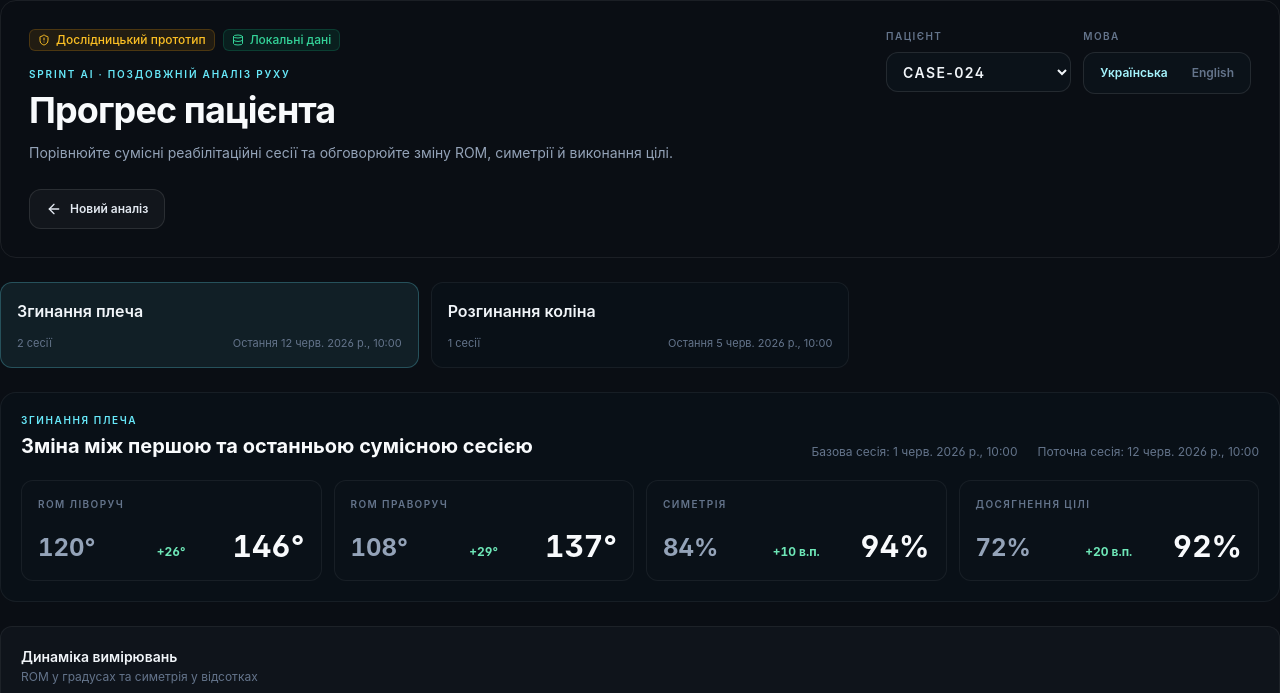
Test: RehabProgressPage › switches protocol, athlete, and locale without mixing sessions
Expected: the text "Базова сесія:" is shown, left=812, top=444, right=1018, bottom=460
Click the button "Розгинання коліна".
click(522, 311)  # box left=431, top=282, right=849, bottom=368
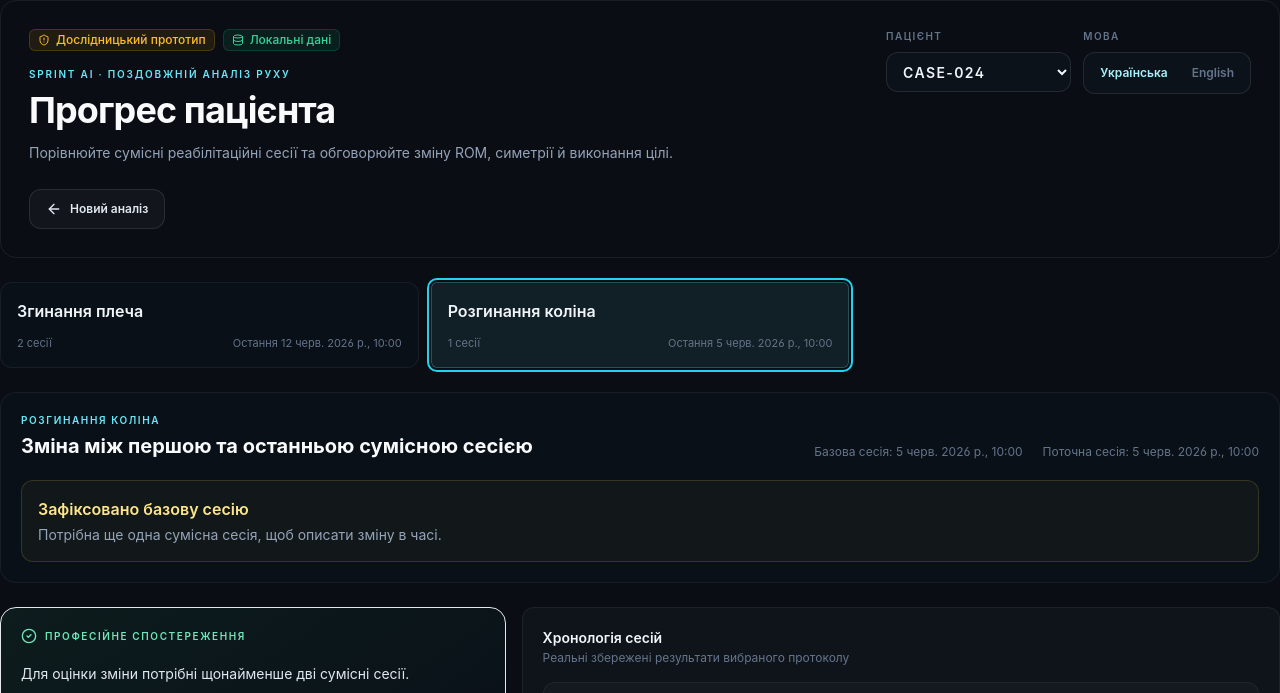
Expected: the text "Потрібна ще одна сумісна сесія, щоб описати зміну в часі." is shown, left=38, top=526, right=442, bottom=543
Select "CASE-031" in the dropdown labelled "Пацієнт" at (979, 72), box left=886, top=52, right=1071, bottom=92
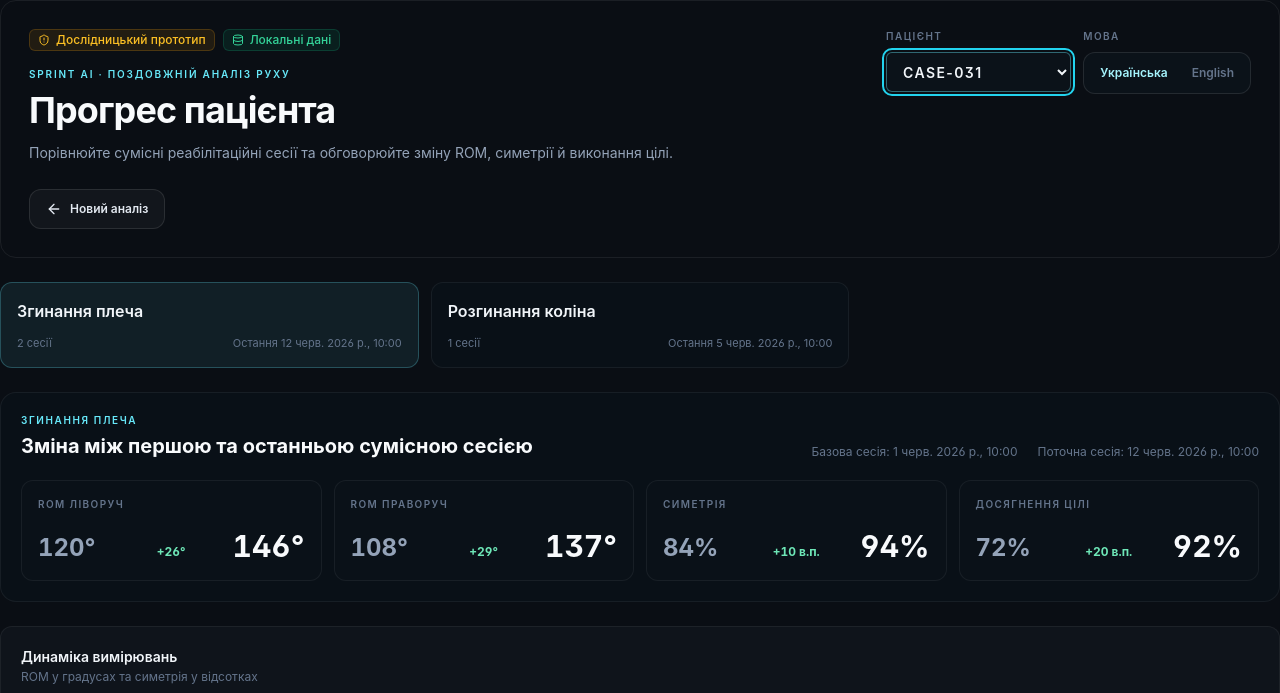
Click the button "English".
click(1213, 73)  # box left=1180, top=57, right=1246, bottom=89
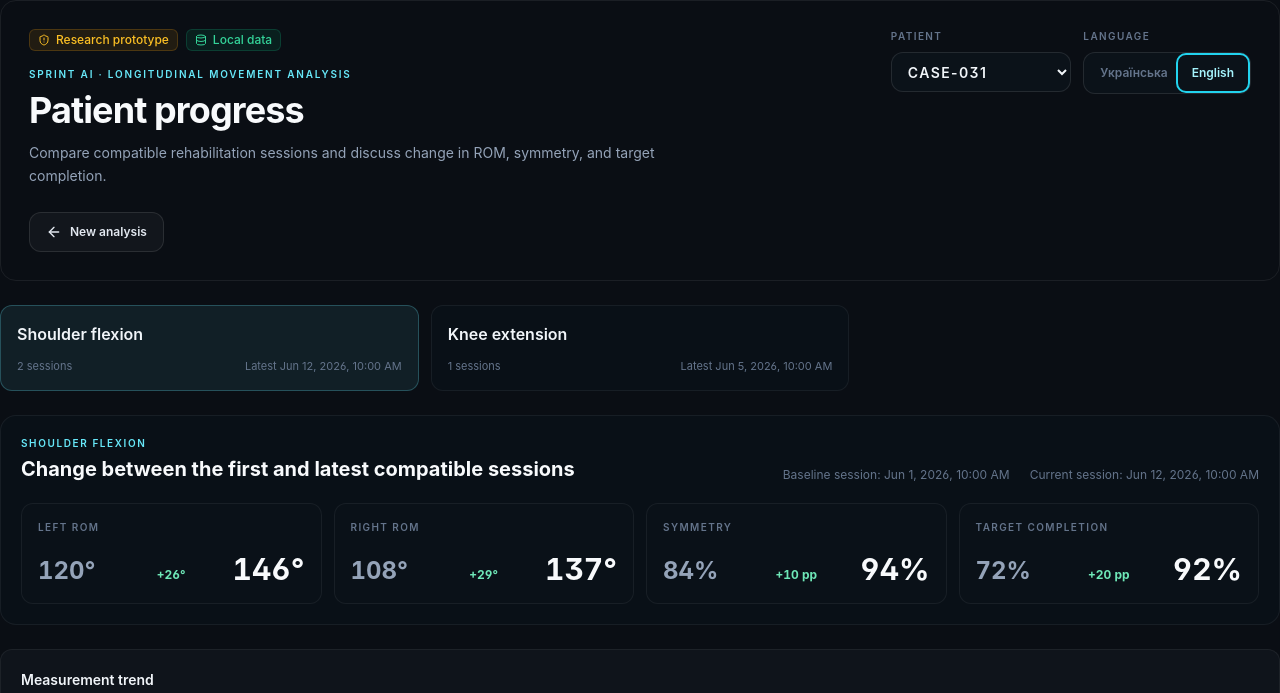
Expected: the heading "Patient progress" is shown, left=29, top=88, right=304, bottom=132
